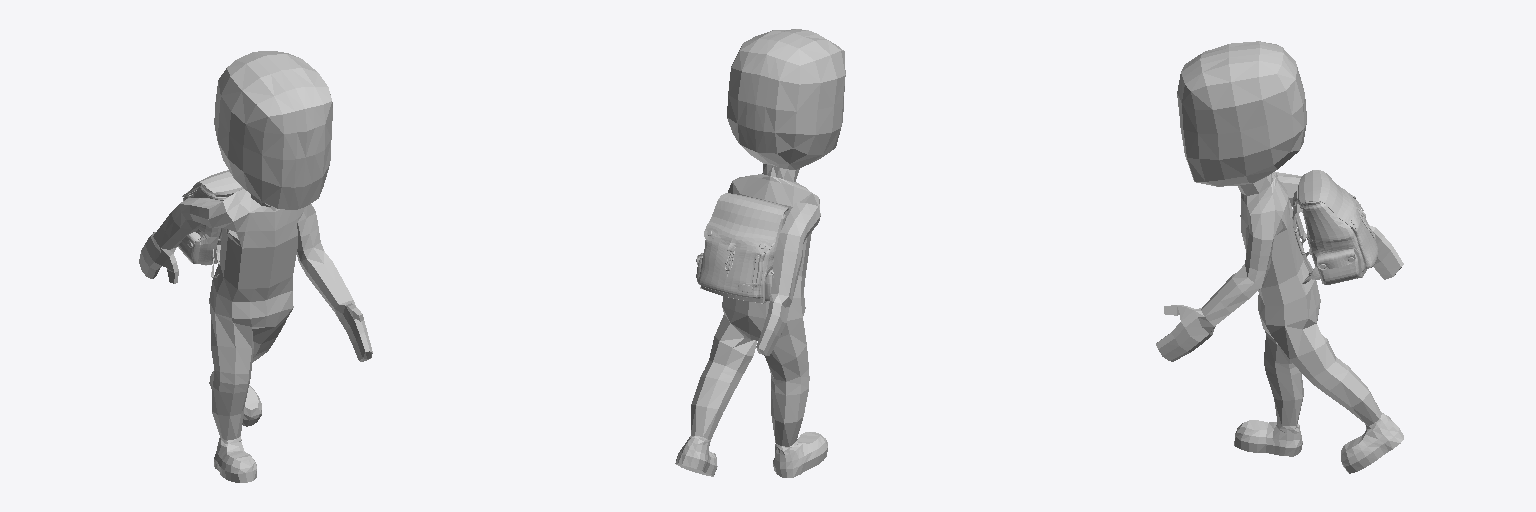
The model's file is player_correndo_2.obj.
3 renders of one model, left to right at view 1: azimuth 30°, elevation 25°; view 2: azimuth 150°, elevation 25°; view 3: azimuth 270°, elevation 25°, orthographic.
Visible parts, largest first — view 1: characterMedium, Cube; view 2: characterMedium, Cube; view 3: characterMedium, Cube.
Boxes of the visible parts, x1,y1,x2,y2 form: characterMedium: [139, 51, 372, 482]; Cube: [178, 170, 242, 277]; characterMedium: [675, 29, 845, 477]; Cube: [696, 193, 788, 303]; characterMedium: [1156, 41, 1403, 473]; Cube: [1292, 170, 1378, 284].
Bounding box in the file's own units: 1.16 × 3.73 × 2.03.